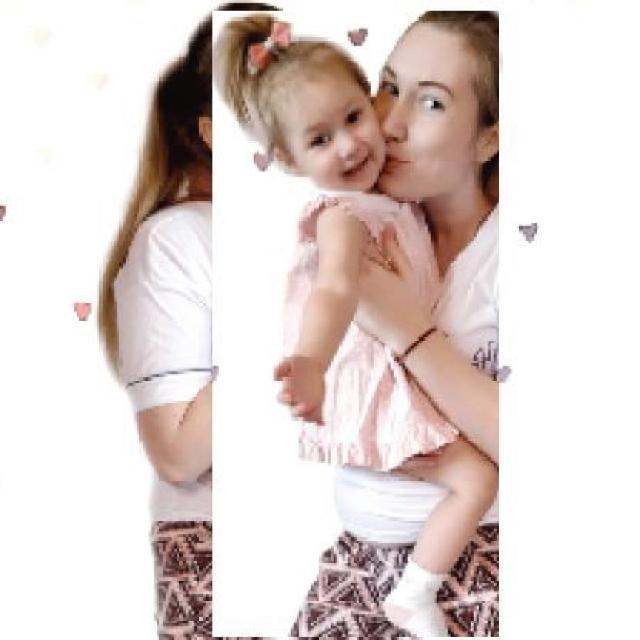child: (211, 11, 500, 638)
